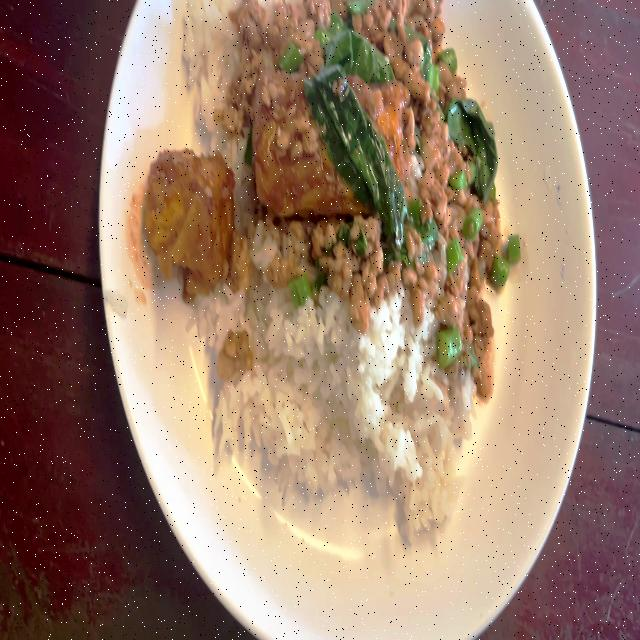fried_tofo: (256, 72, 402, 210), (144, 149, 230, 284)
minced_pork: (404, 72, 507, 384), (230, 0, 450, 78), (255, 212, 406, 303)
rice: (232, 314, 462, 494)
stir_fried_basil: (148, 0, 514, 558)
